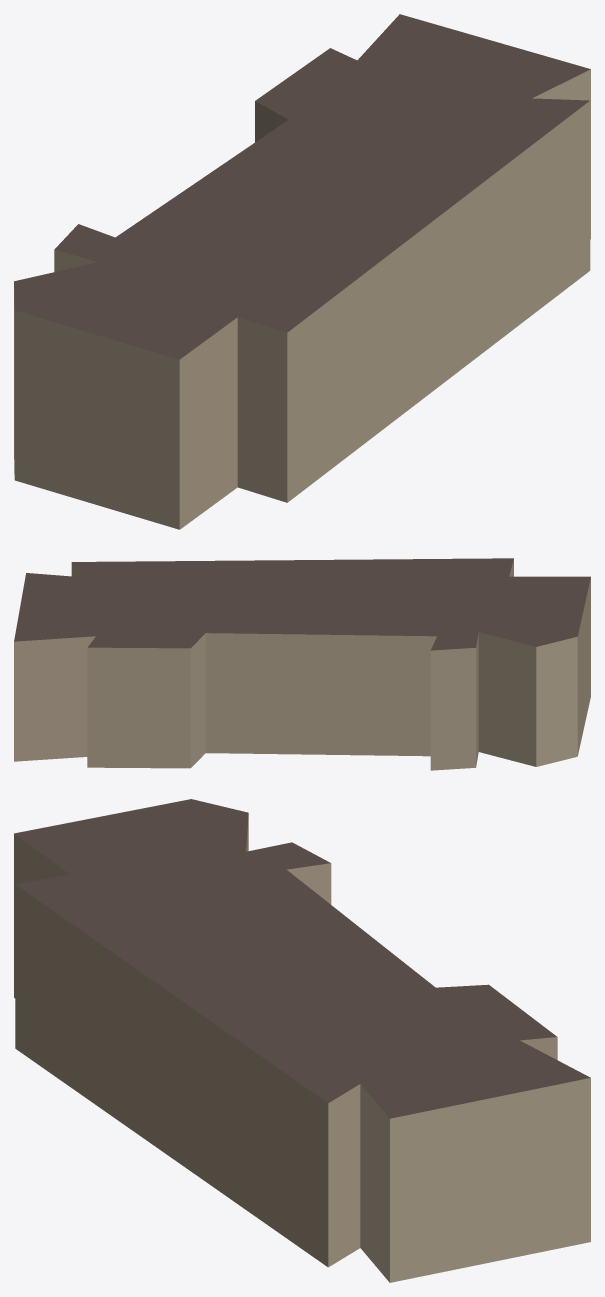
3 views of the same model, one above another, from view 1: azimuth 30°, elevation 25°; view 2: azimuth 150°, elevation 25°; view 3: azimuth 270°, elevation 25° (orthographic). The views are drawn at different scales.
Parts seen in each view (by area): view 1: HP-w1512359826; view 2: HP-w1512359826; view 3: HP-w1512359826.
Boxes of the visible parts, left/top/right/bottom form: HP-w1512359826: left=14, top=14, right=590, bottom=529; HP-w1512359826: left=14, top=558, right=590, bottom=770; HP-w1512359826: left=14, top=799, right=590, bottom=1282.
Size of the model in its own units: 37.58 by 9 by 28.66.
